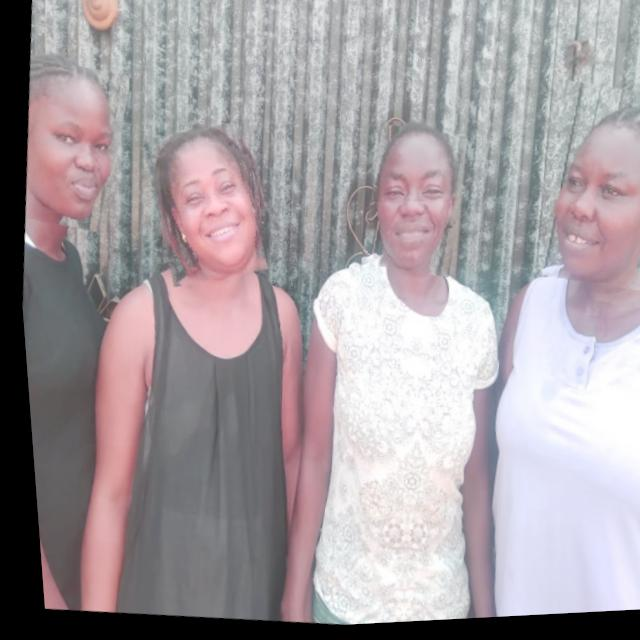happy: (529, 83, 640, 301), (133, 119, 271, 294), (12, 57, 133, 235), (352, 125, 471, 285)
